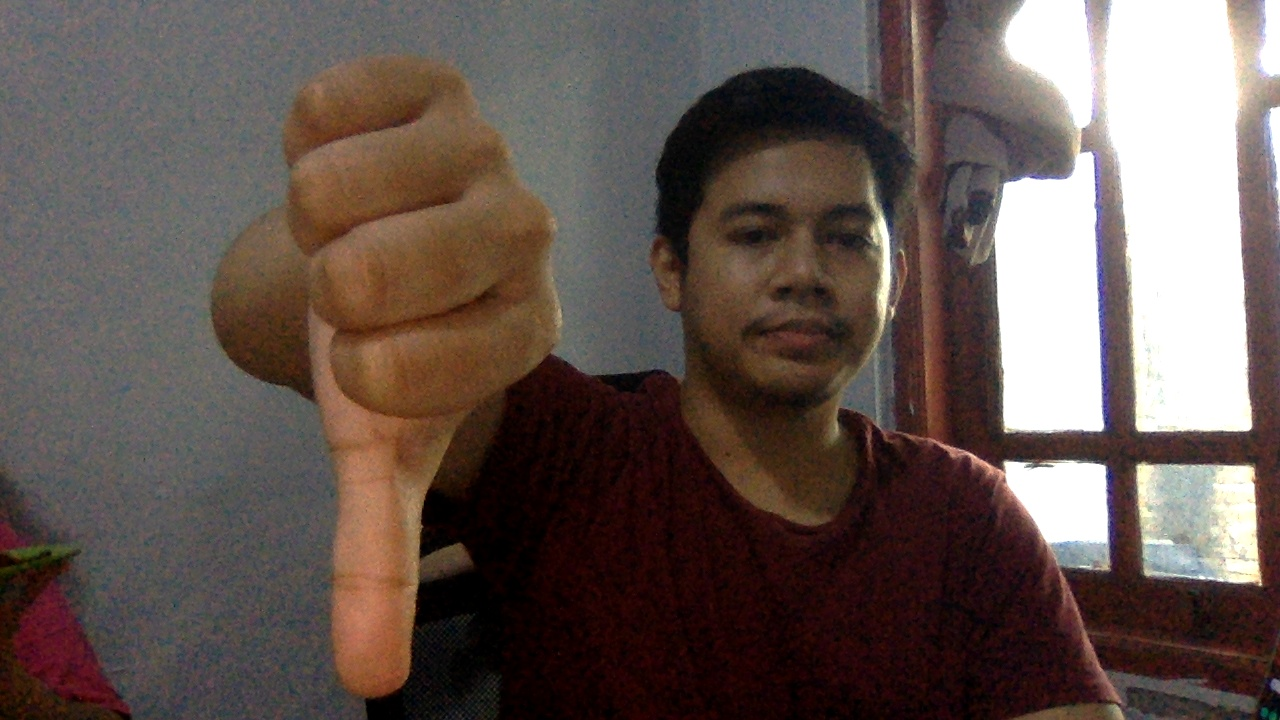thumbsdown: (259, 33, 597, 720)
